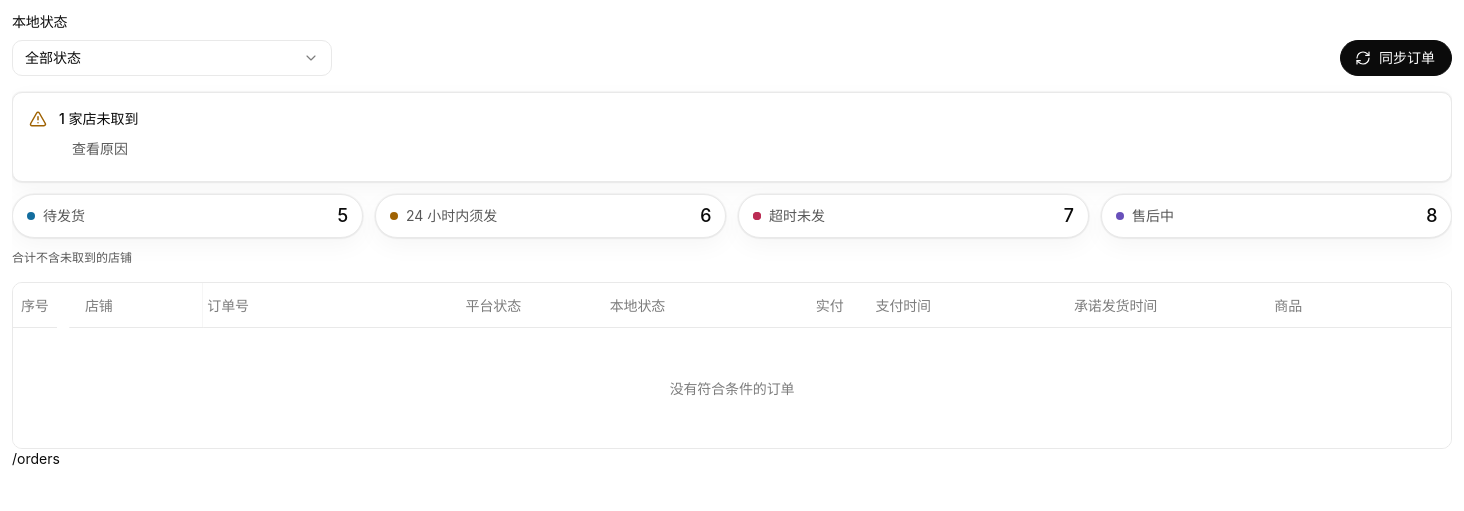
it: 订单列表页 › 部分店铺计数失败：显示 N 家店未取到并可展开原因，合计不含失败店
This screenshot has width=1464, height=511.
Expected: the text "1 家店未取到" is shown, x1=59 y1=110 x2=138 y2=127
Expected: the text "合计不含未取到的店铺" is shown, x1=12 y1=250 x2=132 y2=266
Click the button "查看原因".
click(100, 149)  # box x1=59 y1=133 x2=141 y2=165
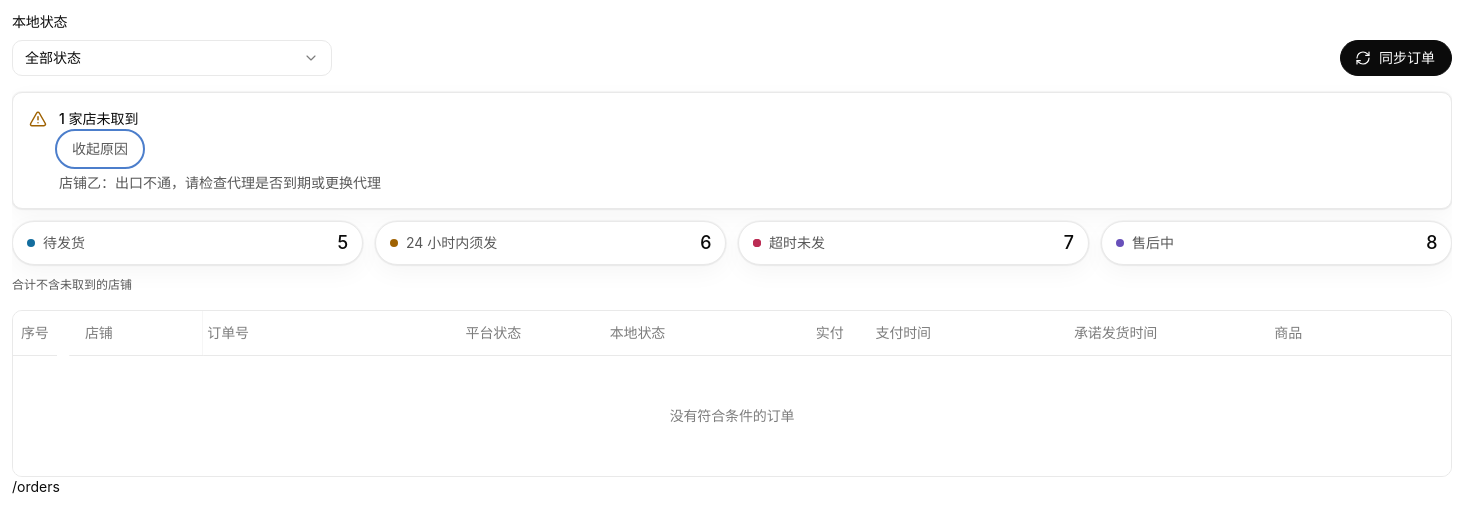
Expected: the list item "店铺乙：出口不通，请检查代理是否到期或更换代理" is shown, x1=59 y1=174 x2=381 y2=191
